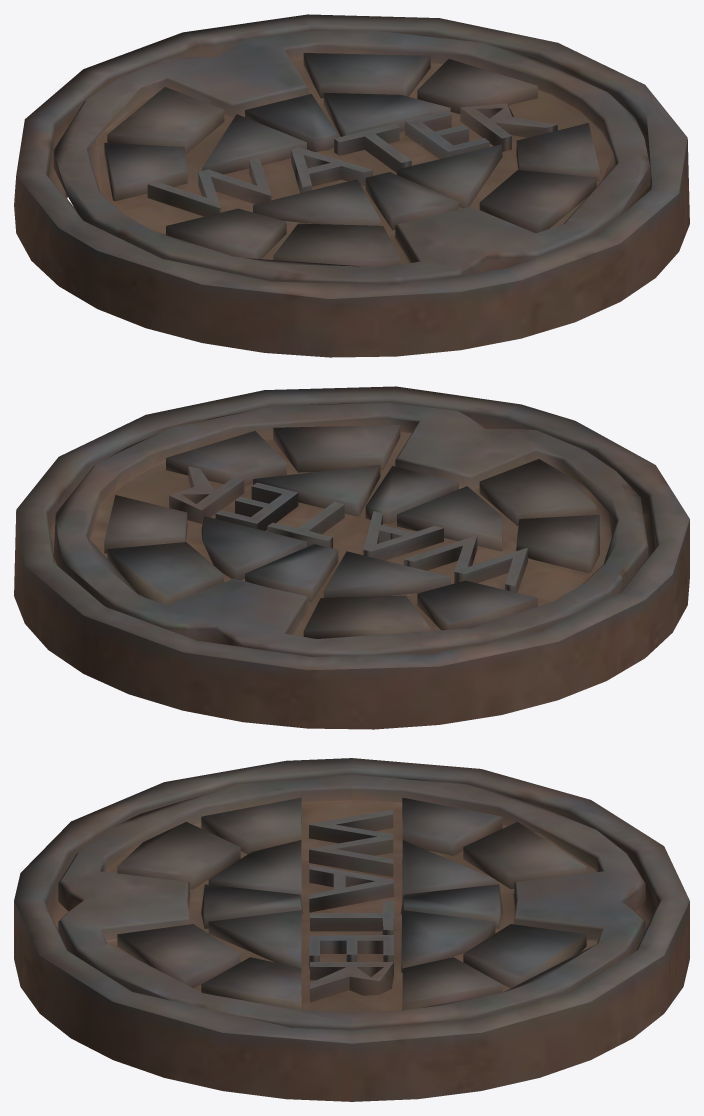
Rendered from water_manhole_cover.glb.
3 renders of one model, top to bottom at view 1: azimuth 30°, elevation 25°; view 2: azimuth 150°, elevation 25°; view 3: azimuth 270°, elevation 25°, orthographic.
Parts seen in each view (by area): view 1: water_manhole_cover_frame; view 2: water_manhole_cover_frame; view 3: water_manhole_cover_frame.
Boxes of the visible parts, bbox=[...] form: water_manhole_cover_frame: bbox=[14, 14, 689, 357]; water_manhole_cover_frame: bbox=[14, 386, 689, 729]; water_manhole_cover_frame: bbox=[14, 758, 689, 1101].
Bounding box in the file's own units: 0.6908 × 0.0676 × 0.6908.
1 material, 1 textured.
